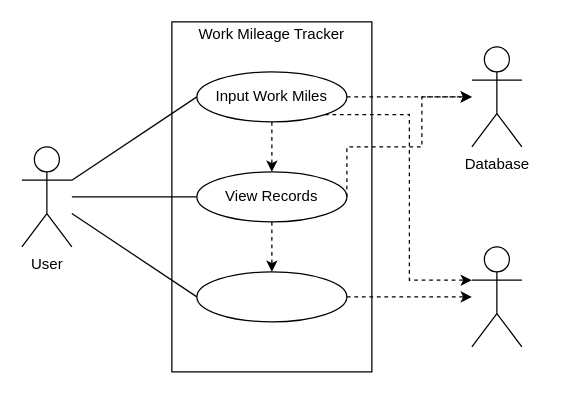
Image size: 563x395. Some labels were removed from this diagram. Each missing label, with the centre of its shape:
"Google Map Integration" goes at (271,296).
"Google Maps" goes at (496,296).
